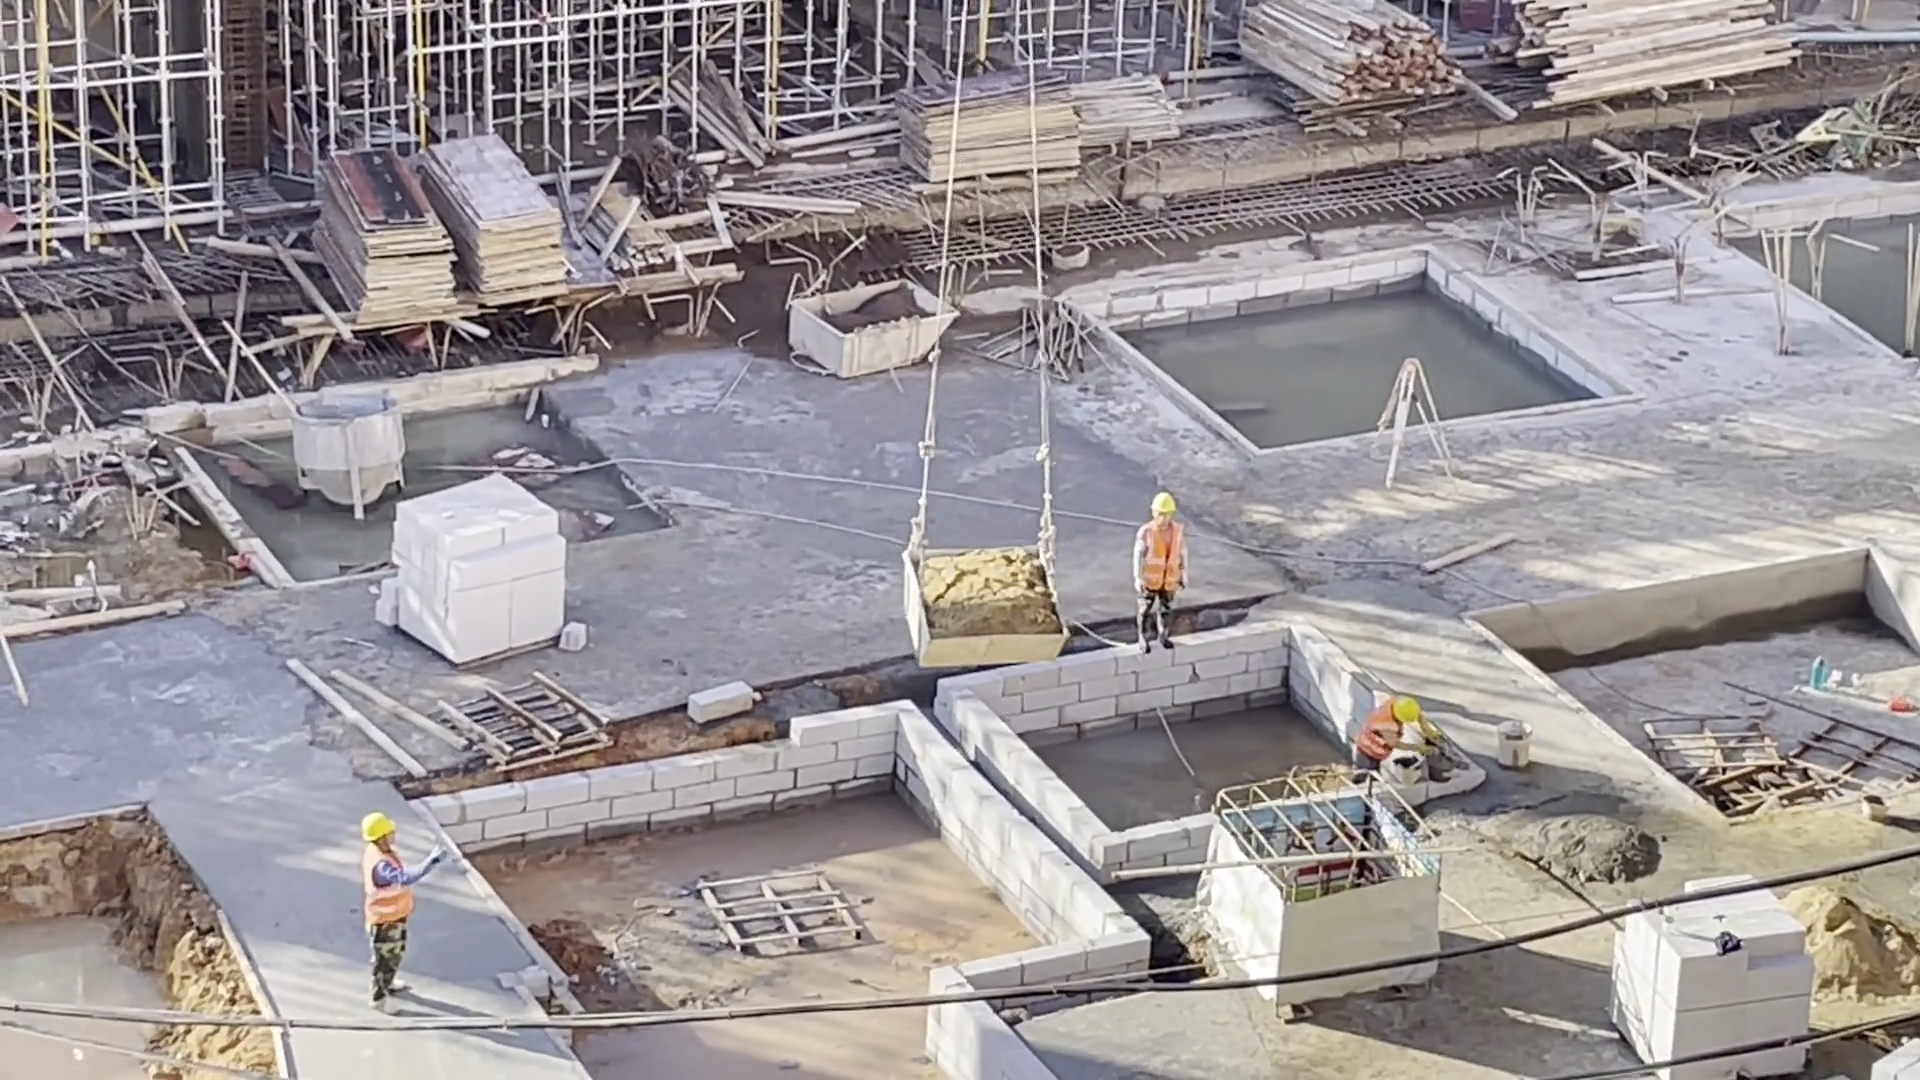board: (308, 146, 466, 328), (423, 130, 577, 309), (892, 63, 1086, 198)
brick: (375, 474, 568, 663), (1610, 916, 1812, 1028)
helmet: (358, 808, 398, 842), (1390, 694, 1424, 724), (1147, 492, 1179, 513)
hopper: (892, 537, 1074, 665), (784, 274, 970, 378), (291, 389, 407, 523)
person: (355, 810, 458, 1020), (1131, 486, 1197, 654), (1348, 693, 1445, 779)
vest: (363, 844, 417, 923), (1142, 519, 1184, 595), (1355, 701, 1403, 760)
wood: (1508, 4, 1806, 112), (1233, 5, 1467, 108)
